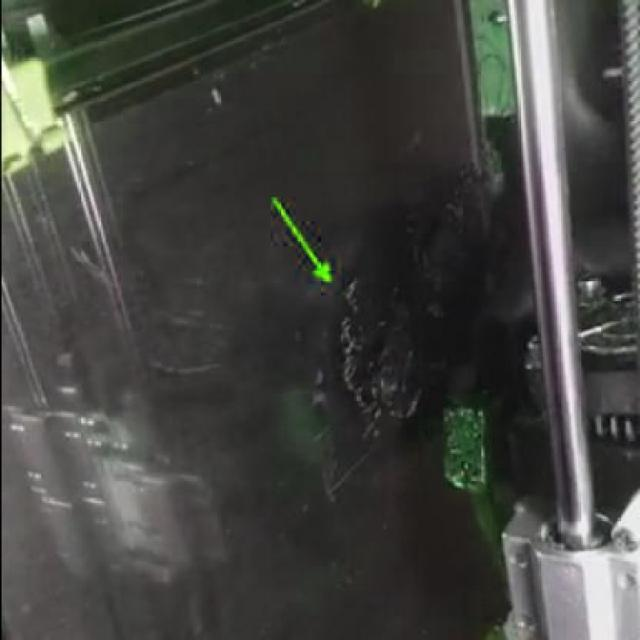spaghetti: (334, 276, 380, 438)
